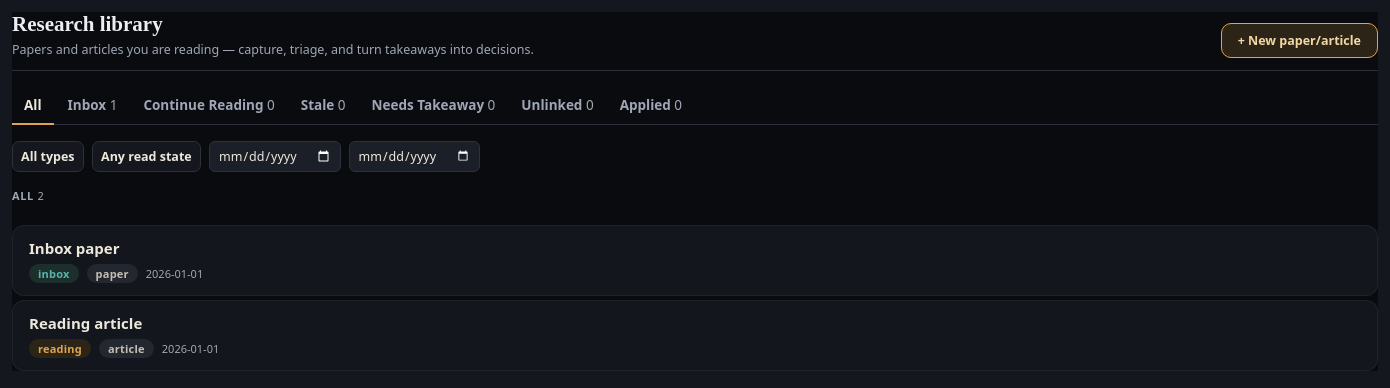
Test: ResearchView › filters the master list by workflow bucket, type, read state, and date
Expected: the button "Inbox paper" is shown, [29,238,120,258]
Expected: the button "Reading article" is shown, [29,313,142,333]
Click the button "Inbox 1".
click(92, 106)  # box [56,87,129,125]
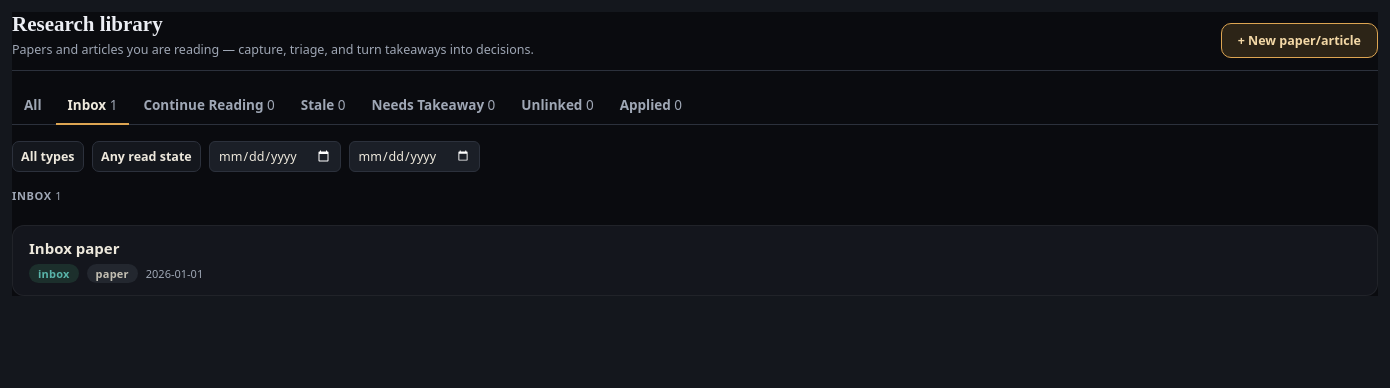
Expected: the button "Inbox paper" is shown, [29,238,120,258]
Expected: the button "Reading article" is gone
Click the button "All".
click(33, 106)  # box [12,87,54,125]
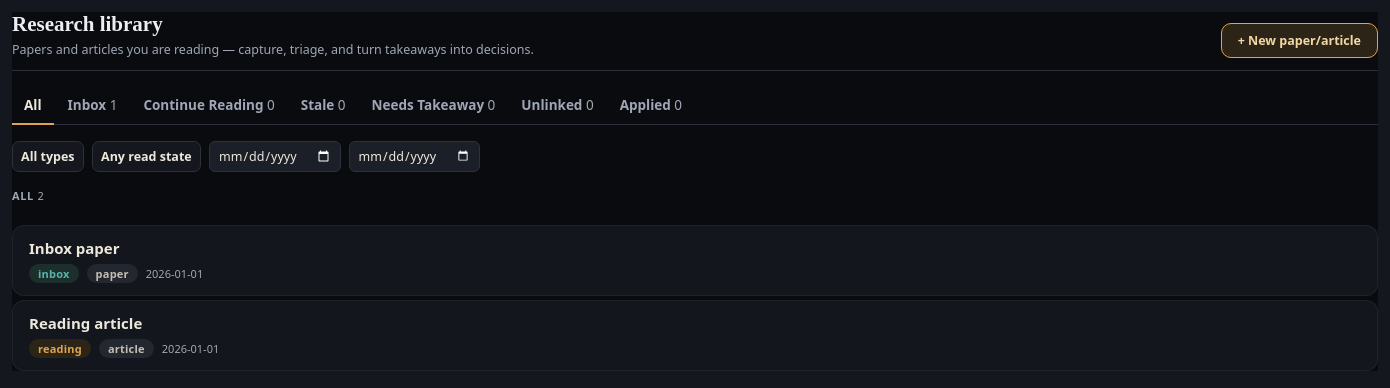
Select "Articles" in the dropdown named "Filter by type" at (48, 156), box [12,141,84,172]
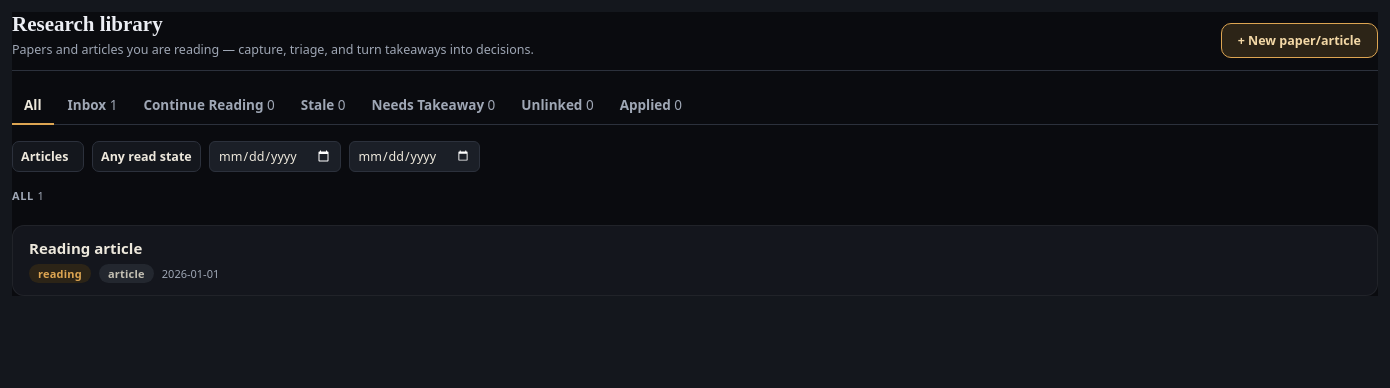
Expected: the button "Reading article" is shown, [29,238,142,258]
Expected: the button "Inbox paper" is gone
